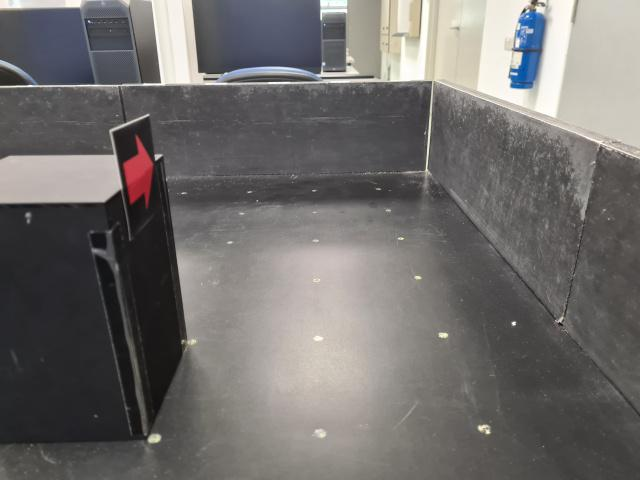left: (109, 113, 163, 242)
